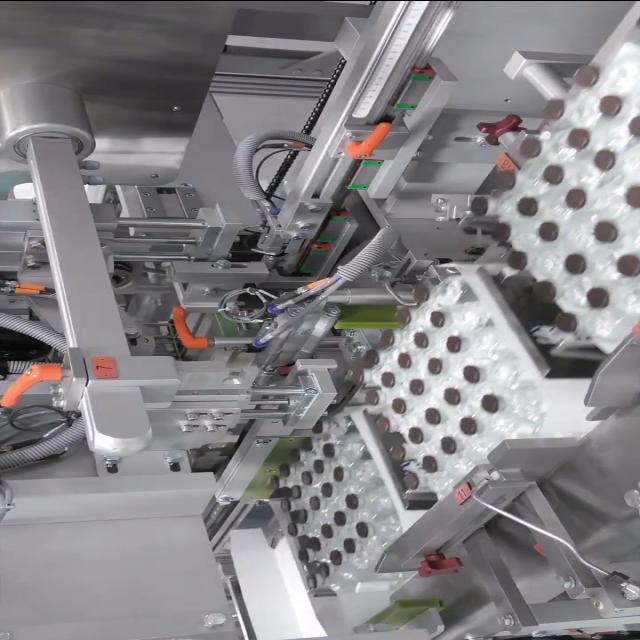vial: (594, 94, 622, 116), (489, 222, 512, 246), (544, 161, 564, 186), (514, 139, 538, 159), (596, 148, 620, 168), (616, 257, 640, 277), (578, 64, 600, 84), (560, 188, 583, 206), (542, 98, 560, 120), (536, 278, 554, 300), (627, 184, 640, 214), (566, 129, 586, 148), (506, 248, 524, 268), (390, 392, 408, 412), (599, 220, 614, 242), (428, 310, 446, 328), (623, 114, 640, 133), (538, 224, 558, 240), (518, 198, 536, 215), (469, 198, 487, 215), (408, 378, 428, 393), (446, 384, 461, 404), (565, 254, 583, 270), (558, 311, 572, 331), (467, 363, 479, 385), (589, 286, 603, 304), (482, 393, 496, 411), (365, 388, 379, 404), (375, 416, 389, 432), (276, 498, 292, 512), (462, 414, 474, 432), (427, 357, 441, 372), (408, 425, 419, 444), (347, 491, 359, 508), (382, 372, 396, 386), (415, 332, 428, 347), (446, 335, 458, 351), (426, 408, 438, 424), (405, 471, 415, 489), (442, 437, 454, 452), (333, 509, 345, 524), (422, 454, 433, 470), (321, 522, 332, 538), (334, 465, 344, 482), (397, 352, 409, 366), (390, 444, 402, 458), (312, 422, 326, 434), (304, 438, 316, 452), (292, 448, 304, 462), (322, 442, 334, 456), (321, 482, 333, 496), (357, 520, 367, 536), (311, 536, 321, 551), (309, 495, 317, 511), (332, 548, 340, 564), (298, 507, 307, 521), (300, 548, 308, 562), (344, 537, 352, 551), (287, 524, 298, 534), (302, 471, 311, 483), (280, 464, 288, 476), (314, 460, 322, 472), (292, 484, 300, 496), (308, 572, 314, 588), (322, 560, 328, 576), (272, 474, 278, 487)
